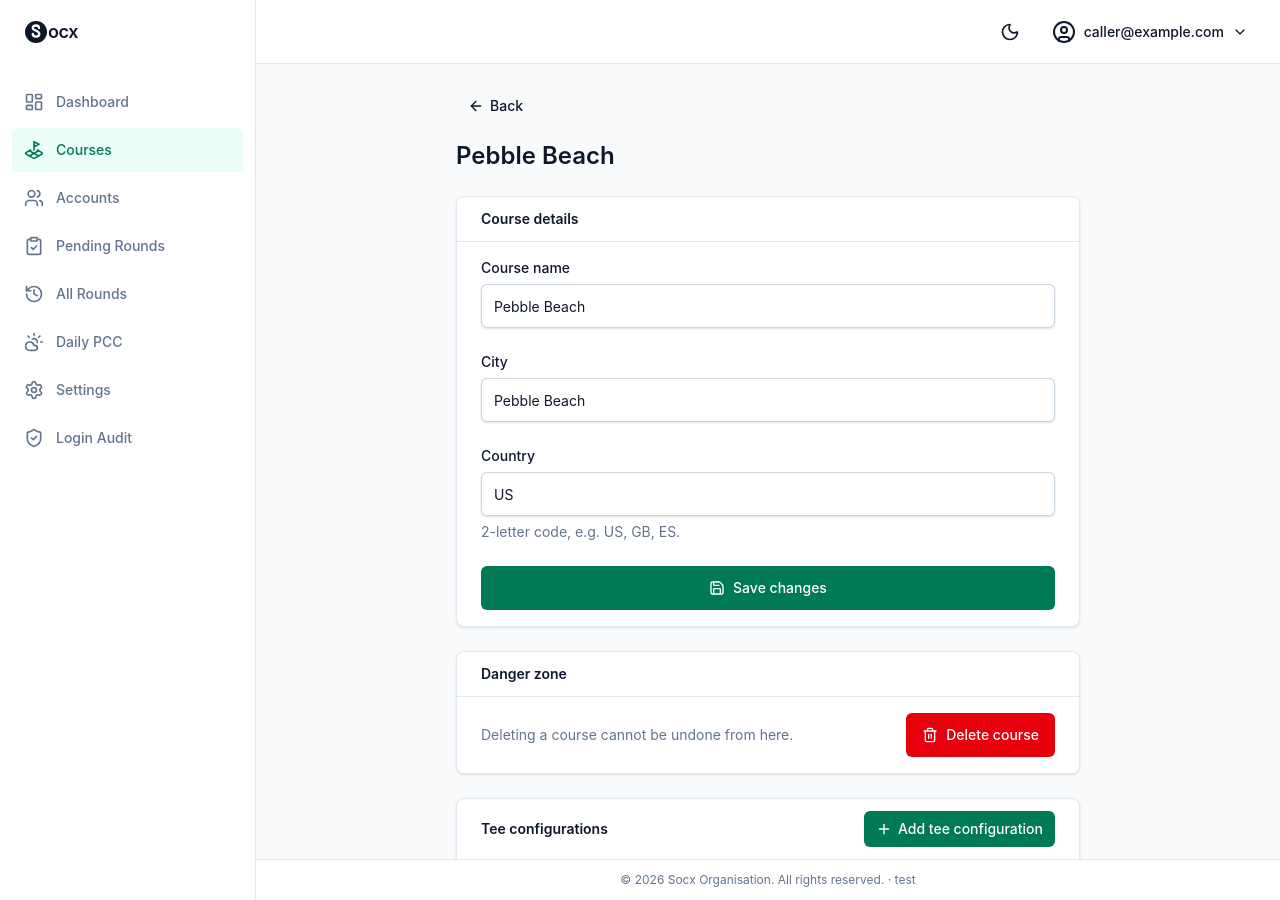
it: CourseDetailPage › sends null for city/country when cleared, not an empty string
Clear the field labelled "City" at x=768, y=400, box [481,378,1055,422]
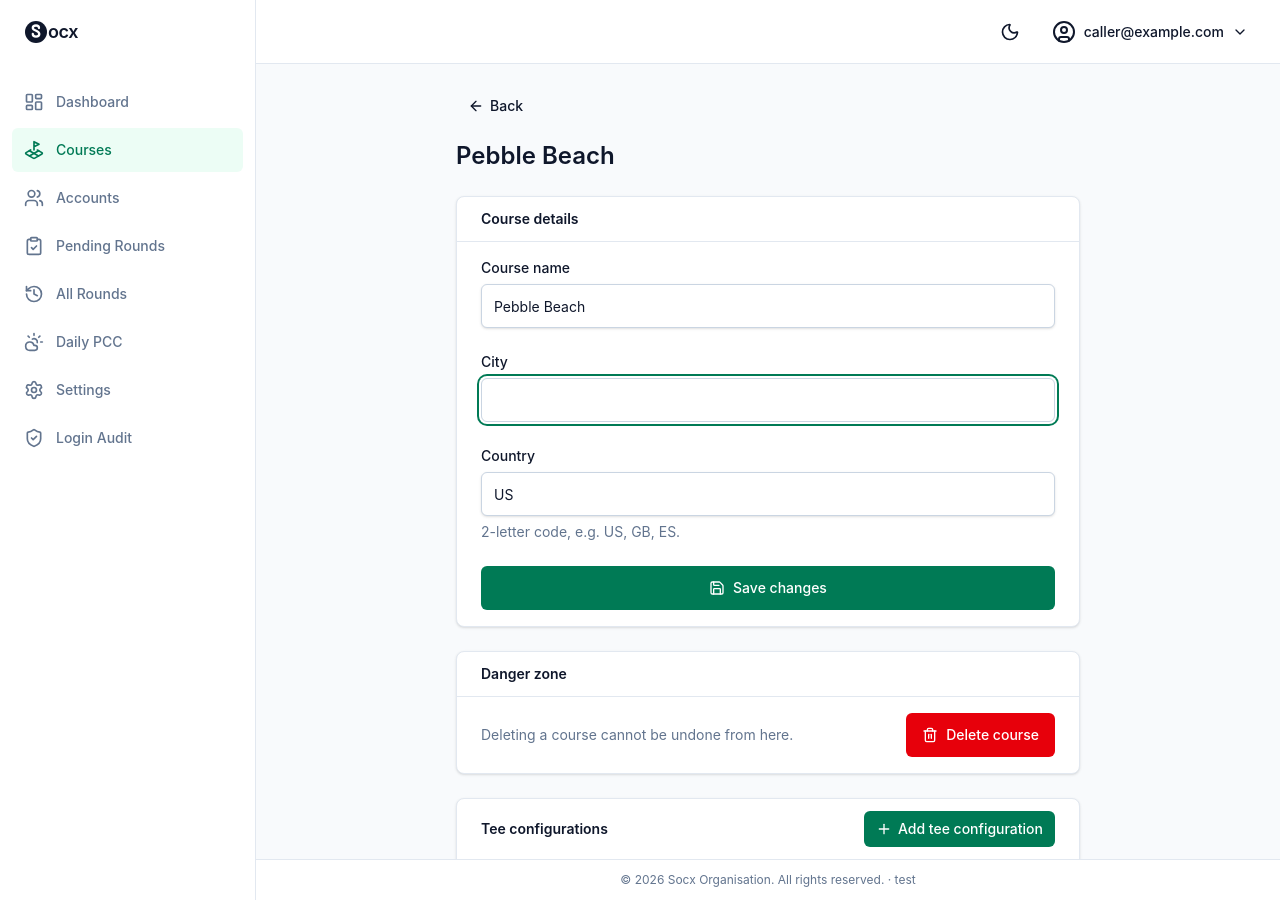
Clear the field labelled "Country" at x=768, y=494, box [481,472,1055,516]
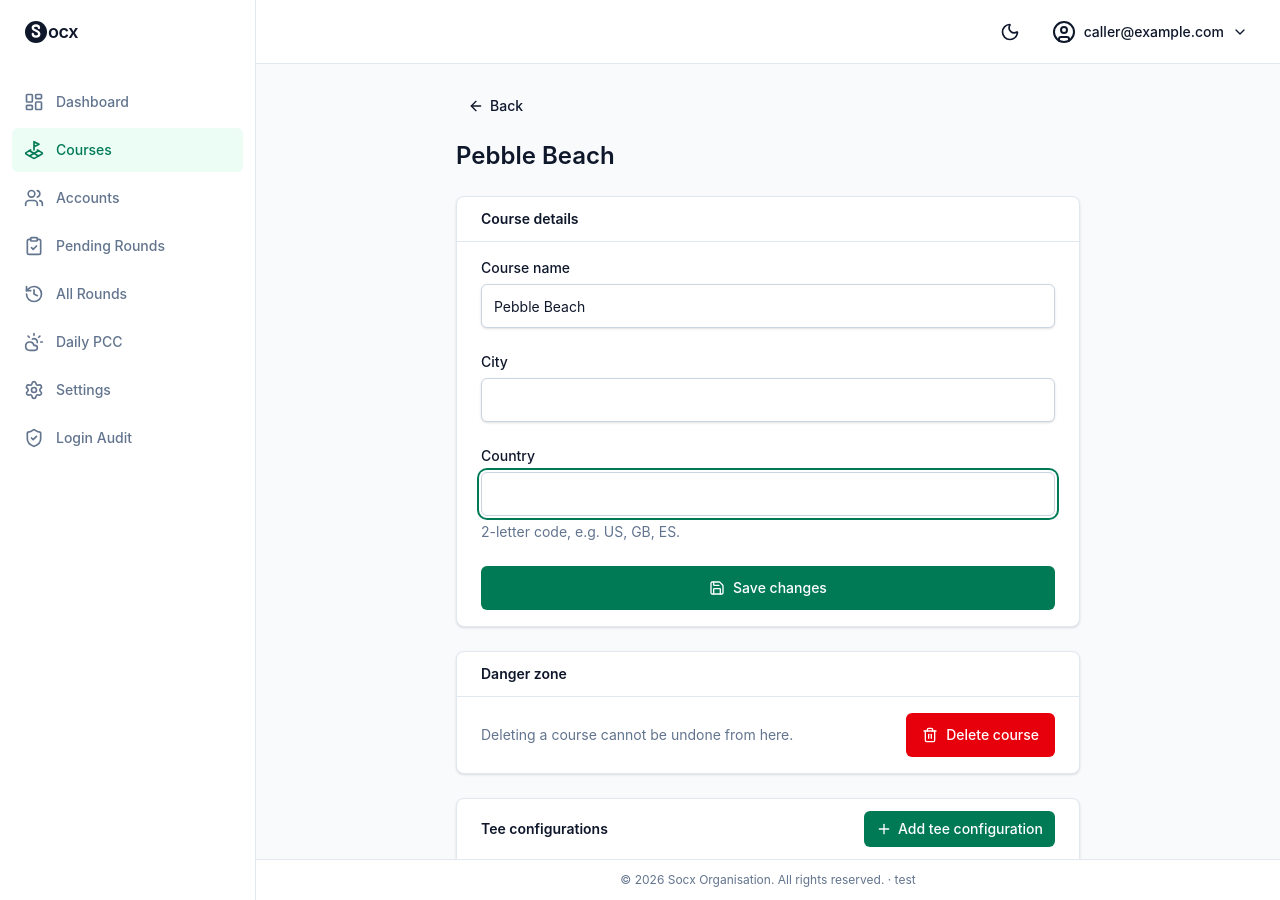
Click the button "Save changes".
click(768, 588)  # box [481,566,1055,610]
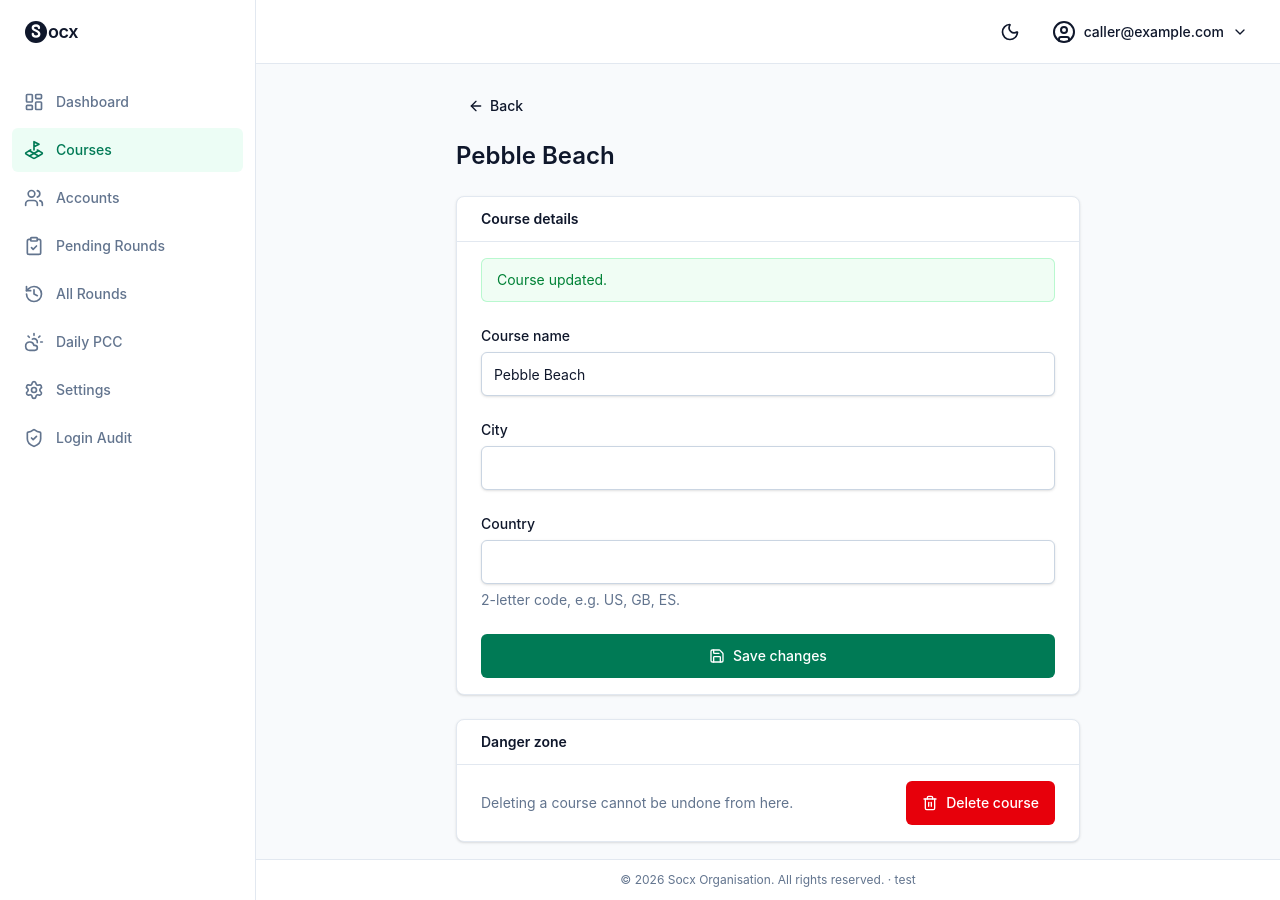
Now the message "Course updated." is shown, box [481,258,1055,302]
